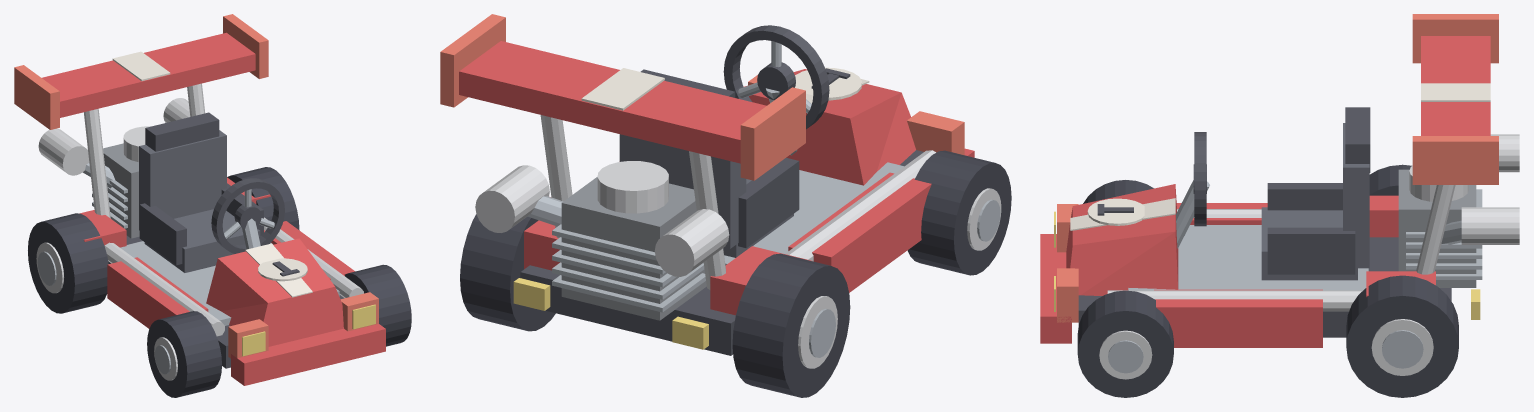
The model's file is NewKart_test.glb.
The picture shows the model from 3 angles, left to right: view 1: azimuth 30°, elevation 25°; view 2: azimuth 150°, elevation 25°; view 3: azimuth 270°, elevation 25°; orthographic projection. The views are drawn at different scales.
Parts seen in each view (by area): view 1: Sloped_red_nose, Rear_spoiler, Seat_back, Rear_L_Tire, Front_bumper, Front_L_Tire, Red_side_pod_-1, Front_R_Tire, Seat_base, Floor_pan, Spoiler_endplate_-1, Steering_wheel_ring (+29 smaller); view 2: Rear_spoiler, Rear_L_Tire, Engine_block, Sloped_red_nose, Front_L_Tire, Red_side_pod_-1, Rear_R_Tire, Main_chassis, Spoiler_endplate_-1, Seat_back, Floor_pan, Seat_side_bolster_-1 (+27 smaller); view 3: Rear_R_Tire, Sloped_red_nose, Red_side_pod_1, Floor_pan, Front_R_Tire, Rear_spoiler, Spoiler_endplate_1, Seat_side_bolster_1, Engine_block, Side_rail_1, Seat_base, Seat_back (+27 smaller).
Boxes of the visible parts, x1=… form: Sloped_red_nose: x1=206, y1=238, x2=343, y2=346; Rear_spoiler: x1=42, y1=32, x2=255, y2=117; Seat_back: x1=139, y1=130, x2=226, y2=230; Rear_L_Tire: x1=28, y1=213, x2=108, y2=313; Front_bumper: x1=231, y1=324, x2=385, y2=385; Front_L_Tire: x1=147, y1=311, x2=221, y2=397; Red_side_pod_-1: x1=107, y1=257, x2=208, y2=328; Front_R_Tire: x1=344, y1=264, x2=411, y2=346; Seat_base: x1=144, y1=209, x2=260, y2=272; Floor_pan: x1=120, y1=241, x2=339, y2=325; Spoiler_endplate_-1: x1=14, y1=65, x2=59, y2=129; Steering_wheel_ring: x1=211, y1=178, x2=284, y2=253; Rear_spoiler: x1=459, y1=41, x2=766, y2=163; Rear_L_Tire: x1=732, y1=253, x2=850, y2=397; Engine_block: x1=561, y1=177, x2=706, y2=320; Sloped_red_nose: x1=744, y1=69, x2=915, y2=185; Front_L_Tire: x1=907, y1=150, x2=1011, y2=275; Red_side_pod_-1: x1=788, y1=172, x2=931, y2=292; Rear_R_Tire: x1=460, y1=214, x2=555, y2=331; Main_chassis: x1=520, y1=150, x2=923, y2=355; Spoiler_endplate_-1: x1=740, y1=87, x2=805, y2=180; Seat_back: x1=619, y1=134, x2=746, y2=248; Floor_pan: x1=724, y1=162, x2=903, y2=265; Seat_side_bolster_-1: x1=738, y1=158, x2=799, y2=248; Rear_R_Tire: x1=1346, y1=275, x2=1458, y2=397; Sloped_red_nose: x1=1066, y1=184, x2=1178, y2=295; Red_side_pod_1: x1=1154, y1=289, x2=1322, y2=347; Floor_pan: x1=1128, y1=225, x2=1368, y2=290; Front_R_Tire: x1=1077, y1=290, x2=1173, y2=397; Rear_spoiler: x1=1421, y1=36, x2=1490, y2=135; Spoiler_endplate_1: x1=1412, y1=136, x2=1498, y2=184; Seat_side_bolster_1: x1=1267, y1=227, x2=1355, y2=274; Engine_block: x1=1398, y1=169, x2=1476, y2=287; Side_rail_1: x1=1107, y1=290, x2=1362, y2=311; Seat_base: x1=1261, y1=207, x2=1357, y2=280; Seat_back: x1=1343, y1=123, x2=1369, y2=268.
Size of the model in its own units: 1.95 by 1.69 by 2.89.
